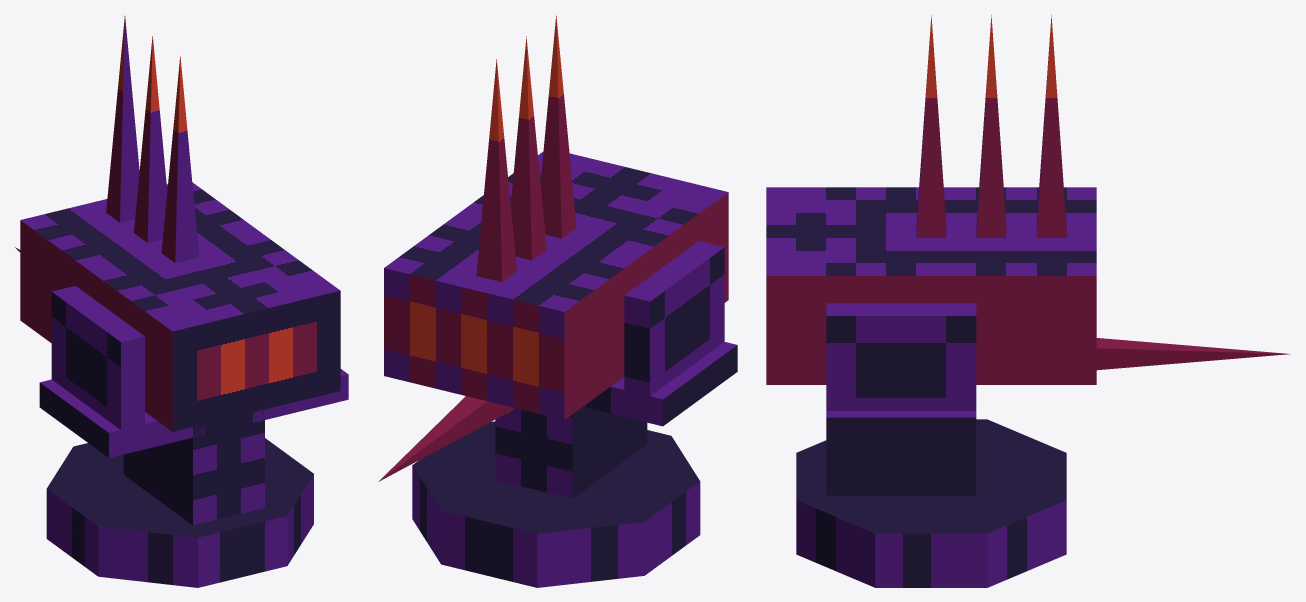
The model's file is Turret_bbmodel.fbx.
3 views of the same model, side by side, from view 1: azimuth 30°, elevation 25°; view 2: azimuth 150°, elevation 25°; view 3: azimuth 270°, elevation 25° (orthographic). The views are drawn at different scales.
Parts seen in each view (by area): view 1: cuboid, cylinder, cuboid_1, cuboid_2, cuboid_4, pyramid_3, pyramid_1, pyramid_2, cuboid_3; view 2: cuboid, cylinder, cuboid_2, cuboid_1, cuboid_4, pyramid_1, pyramid_2, pyramid_3, pyramid; view 3: cuboid, cylinder, cuboid_5, cuboid_1, cuboid_3, pyramid_2, pyramid_1, pyramid_3, pyramid.
Part boxes in pixels (x1=…): cuboid: x1=20, y1=182, x2=340, y2=431; cylinder: x1=46, y1=438, x2=313, y2=587; cuboid_1: x1=123, y1=410, x2=264, y2=525; cuboid_2: x1=51, y1=286, x2=144, y2=442; cuboid_4: x1=39, y1=379, x2=204, y2=457; pyramid_3: x1=161, y1=56, x2=199, y2=263; pyramid_1: x1=106, y1=16, x2=139, y2=222; pyramid_2: x1=133, y1=36, x2=167, y2=242; cuboid_3: x1=253, y1=369, x2=348, y2=422; cuboid: x1=384, y1=152, x2=728, y2=419; cylinder: x1=412, y1=421, x2=700, y2=587; cuboid_2: x1=624, y1=241, x2=724, y2=404; cuboid_1: x1=495, y1=407, x2=647, y2=498; cuboid_4: x1=583, y1=342, x2=737, y2=426; pyramid_1: x1=476, y1=59, x2=516, y2=281; pyramid_2: x1=510, y1=36, x2=546, y2=260; pyramid_3: x1=540, y1=15, x2=576, y2=238; pyramid: x1=378, y1=396, x2=505, y2=481; cuboid: x1=766, y1=187, x2=1096, y2=384; cylinder: x1=796, y1=419, x2=1066, y2=587; cuboid_5: x1=826, y1=303, x2=976, y2=410; cuboid_1: x1=826, y1=444, x2=976, y2=495; cuboid_3: x1=826, y1=411, x2=976, y2=444; pyramid_2: x1=976, y1=14, x2=1006, y2=237; pyramid_1: x1=1036, y1=14, x2=1066, y2=237; pyramid_3: x1=916, y1=15, x2=946, y2=237; pyramid: x1=1096, y1=338, x2=1290, y2=370.
Size of the model in its own units: 62.5 by 119 by 109.
1 material, 1 textured.
